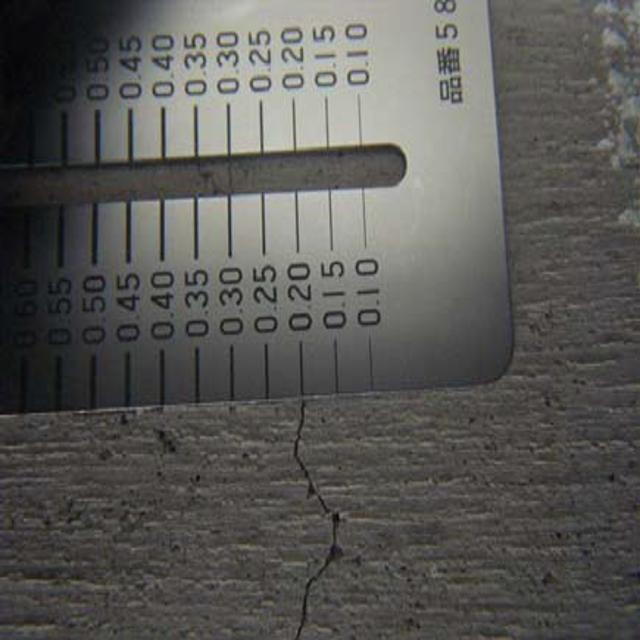crack: (276, 401, 347, 640)
